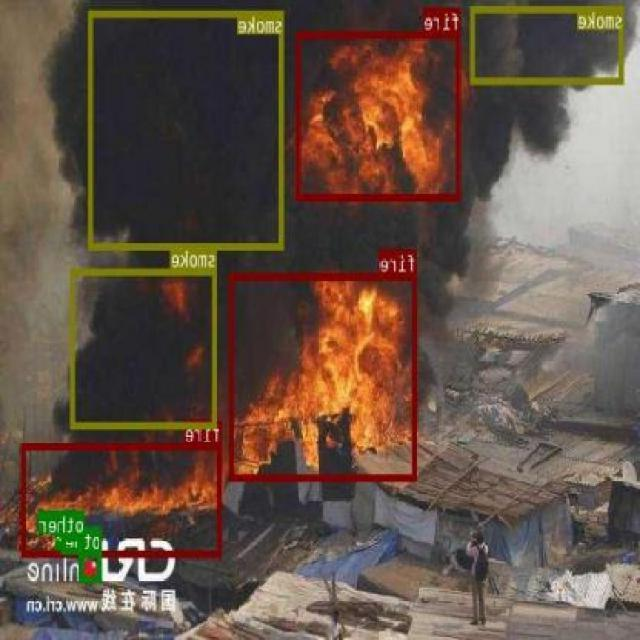Fire: (231, 272, 417, 480), (296, 31, 462, 200), (22, 442, 224, 556)
Smoke: (89, 11, 285, 250), (72, 268, 218, 428), (471, 6, 624, 82)
